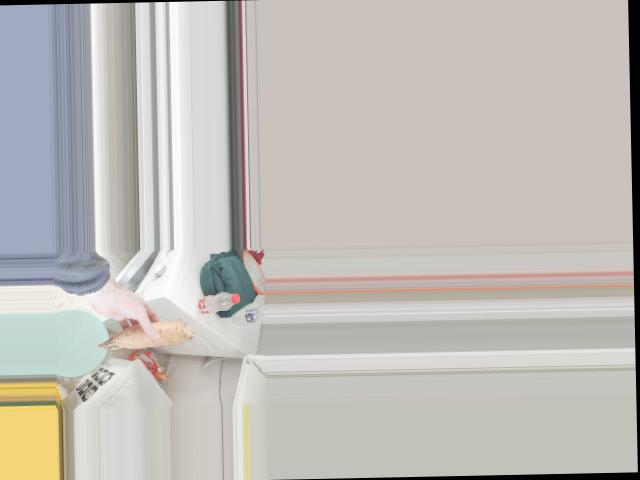sweet_potato: (96, 324, 198, 346)
